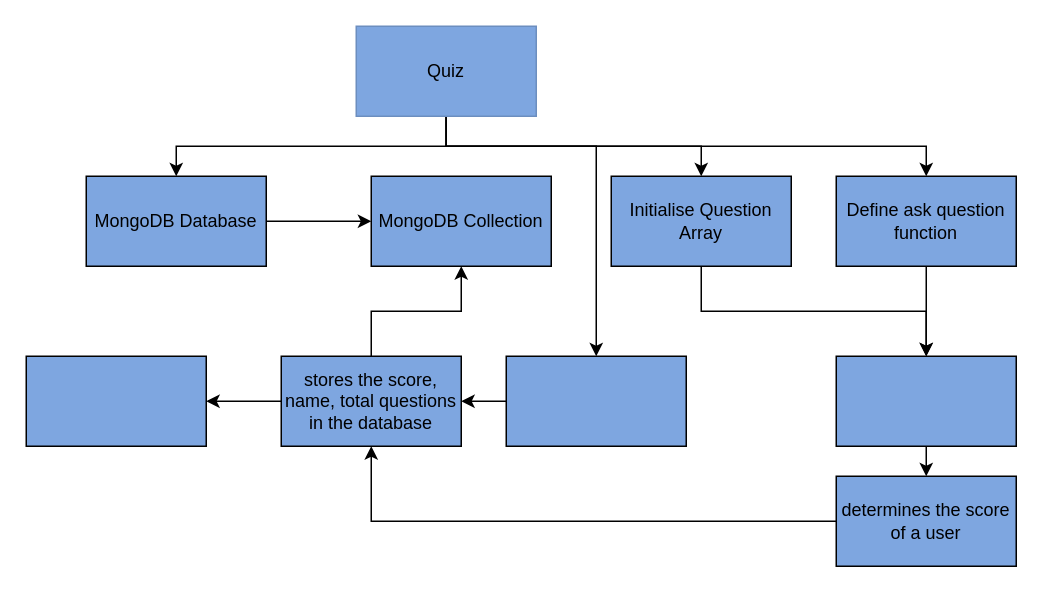
The diagram is 1043 pixels wide and 593 high, and some of its shapes have lost their labels. The shapes that lost their labels are listed below. From the top down, each one's centre as x and y in pixels, then its label:
point 115,400: Outputs the score out of the total length of the question array
point 595,400: ask for users name
point 925,400: selects a random question from the question array
